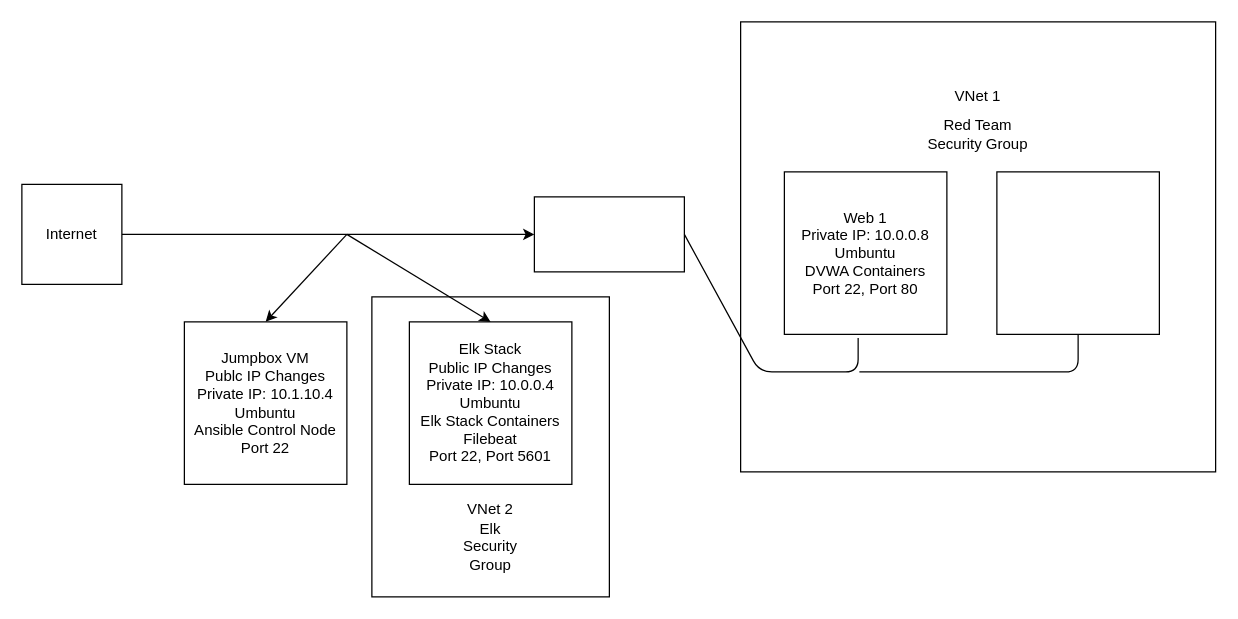
The diagram is 1238 pixels wide and 619 high, and some of its shapes have lost their labels. Here are the shapes that lost their labels. From the top down, the box of each, then its label:
(533, 196, 684, 272): Load Balancer
(996, 171, 1159, 334): Web 2 Private IP: 10.0.0.9 Umbuntu DVWA Containers Port 22, Port 80
